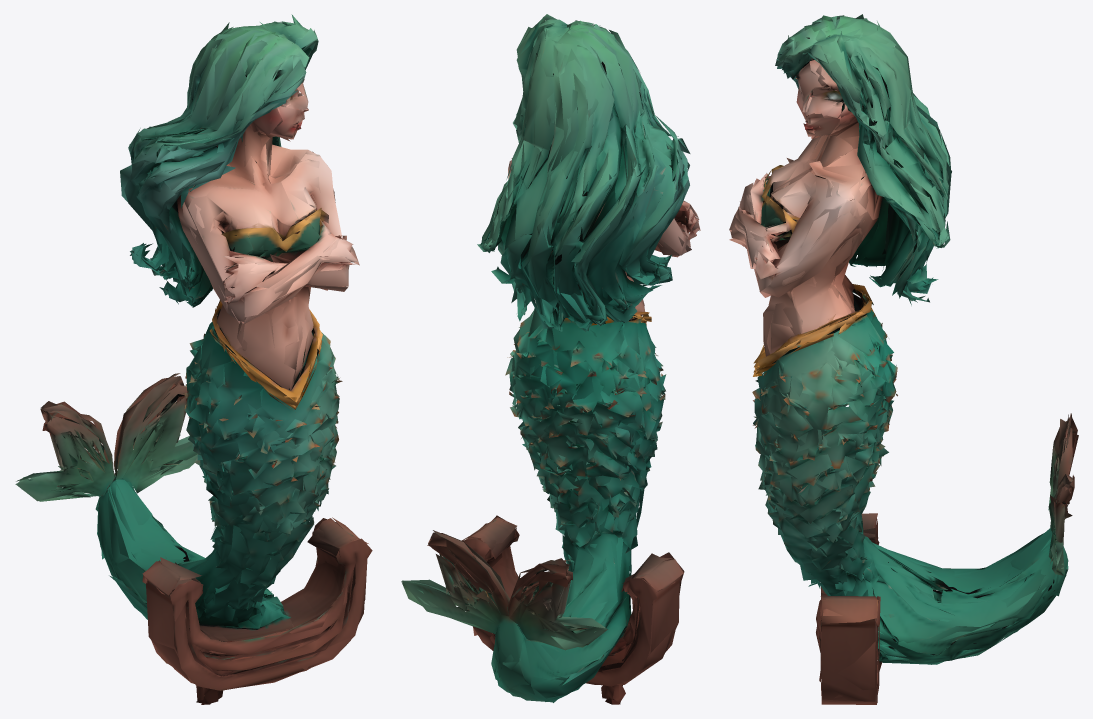
The model's file is figure_mermaid.glb.
3 renders of one model, left to right at view 1: azimuth 30°, elevation 25°; view 2: azimuth 150°, elevation 25°; view 3: azimuth 270°, elevation 25°, orthographic. The views are drawn at different scales.
Parts seen in each view (by area): view 1: Mesh_0; view 2: Mesh_0; view 3: Mesh_0.
Boxes of the visible parts, x1=… form: Mesh_0: x1=15, y1=14, x2=372, y2=704; Mesh_0: x1=401, y1=14, x2=700, y2=704; Mesh_0: x1=729, y1=14, x2=1078, y2=704.
Bounding box in the file's own units: 0.9923 × 2.63 × 1.21.
1 material, 1 textured.
